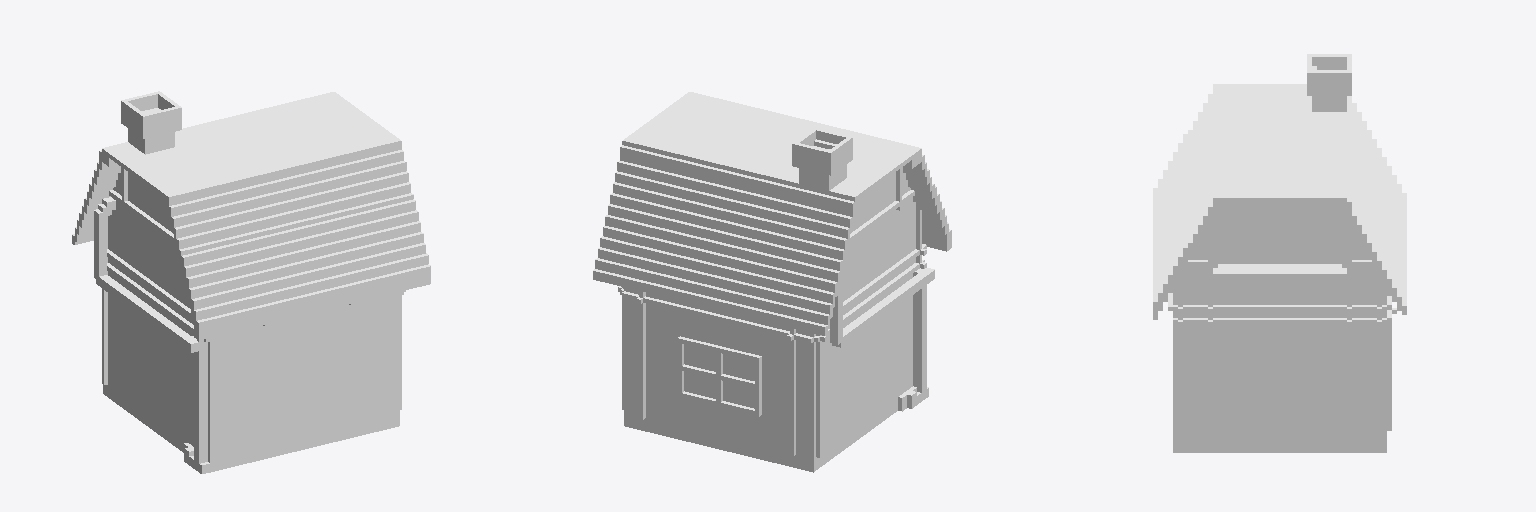
The model's file is zip2.obj.
The picture shows the model from 3 angles: view 1: azimuth 30°, elevation 25°; view 2: azimuth 150°, elevation 25°; view 3: azimuth 270°, elevation 25°; orthographic projection.
Visible parts, largest first — view 1: zip2; view 2: zip2; view 3: zip2.
Part boxes in pixels (x1,y1,x2,y2): zip2: (72,91,430,473); zip2: (593,92,951,472); zip2: (1153,54,1406,452).
Size of the model in its own units: 56 by 68 by 51.